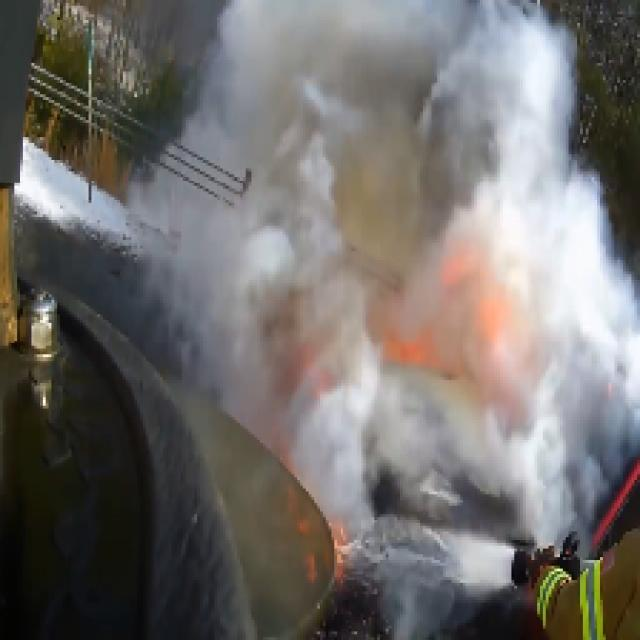Smoke: (31, 0, 640, 637)
